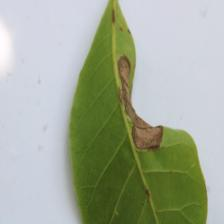leaf miner: (114, 52, 170, 153)
